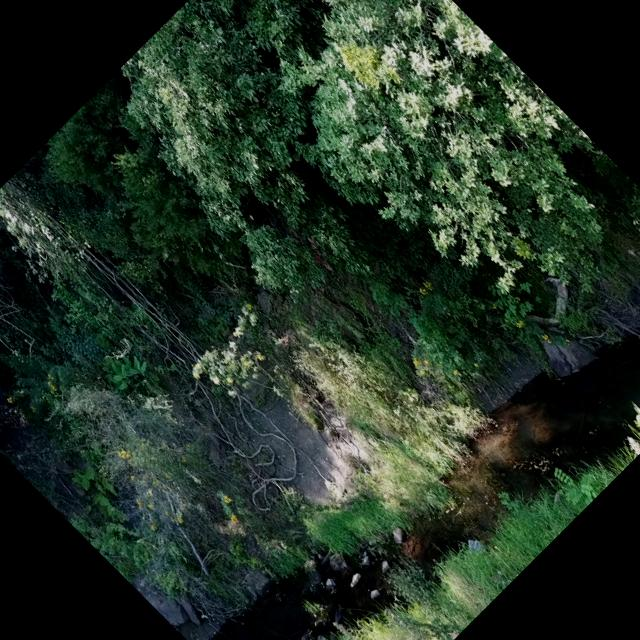Mysore-Thorn-Weed: (92, 336, 156, 399)
